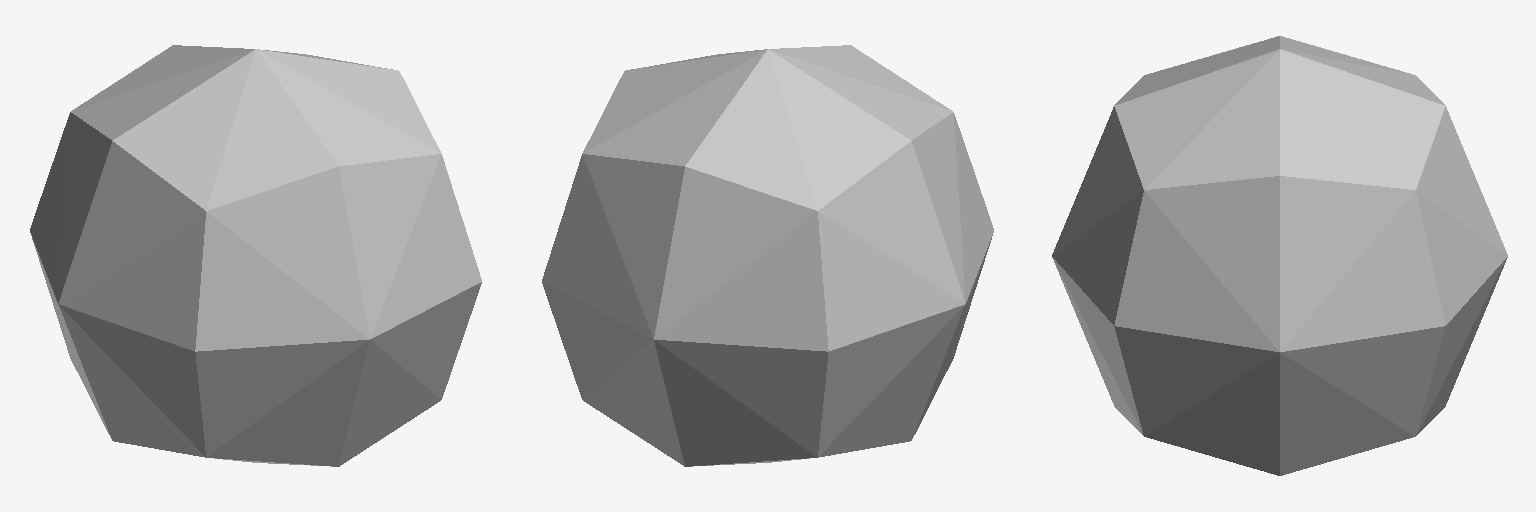
File: EnemyLeftArm.obj
The picture shows the model from 3 angles: view 1: azimuth 30°, elevation 25°; view 2: azimuth 150°, elevation 25°; view 3: azimuth 270°, elevation 25°; orthographic projection.
Parts seen in each view (by area): view 1: LeftArm; view 2: LeftArm; view 3: LeftArm.
Part boxes in pixels (x1,y1,x2,y2): LeftArm: (30, 45, 481, 466); LeftArm: (542, 45, 993, 466); LeftArm: (1052, 36, 1507, 475).
Bounding box in the file's own units: 0.1846 × 0.1846 × 0.1846.